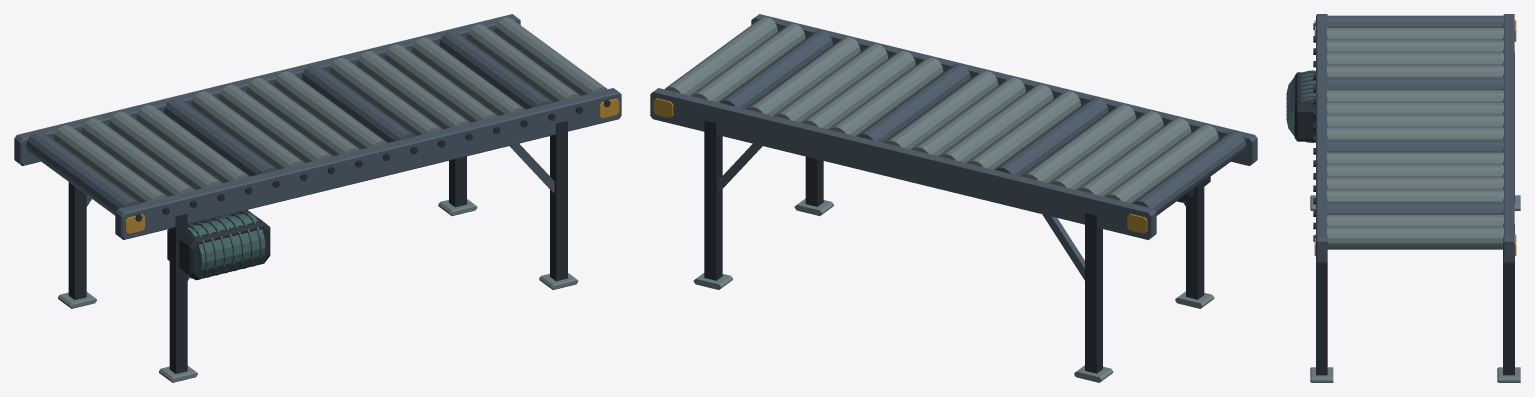
The model's file is S-05_roller_conveyor.glb.
3 renders of one model, left to right at view 1: azimuth 30°, elevation 25°; view 2: azimuth 150°, elevation 25°; view 3: azimuth 270°, elevation 25°, orthographic. The views are drawn at different scales.
Parts seen in each view (by area): view 1: S-05_roller_conveyor; view 2: S-05_roller_conveyor; view 3: S-05_roller_conveyor.
Boxes of the visible parts, <box> form: S-05_roller_conveyor: <box>14,14,621,382</box>; S-05_roller_conveyor: <box>650,14,1257,382</box>; S-05_roller_conveyor: <box>1286,14,1520,382</box>.
Size of the model in its own units: 2.6 by 0.9056 by 1.14.
